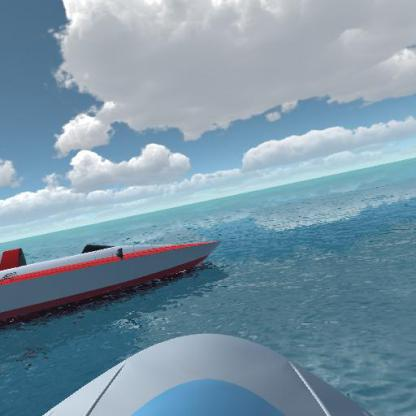usv3: (0, 233, 225, 328)
